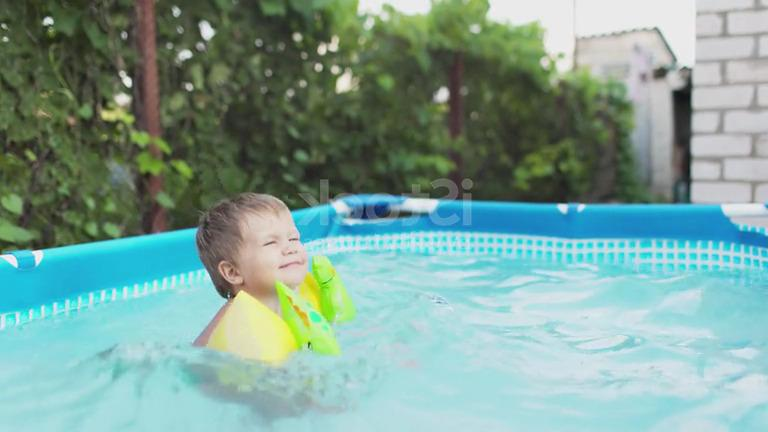Swimming: (96, 153, 424, 401)
